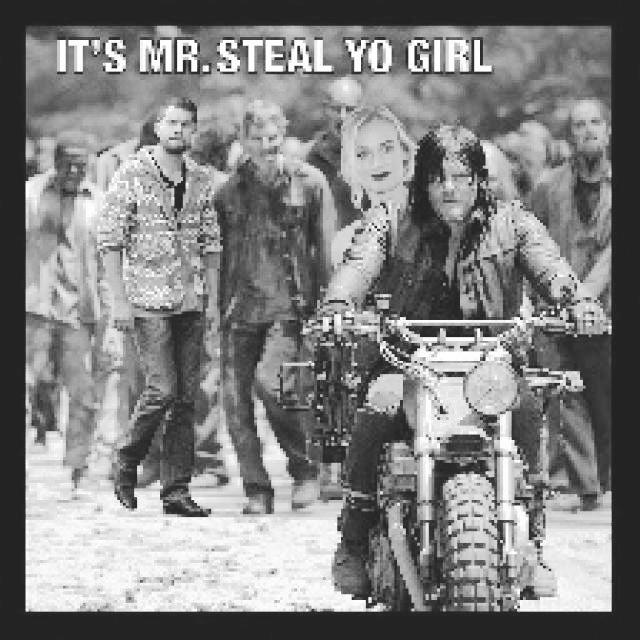Bike: (375, 312, 569, 640)
